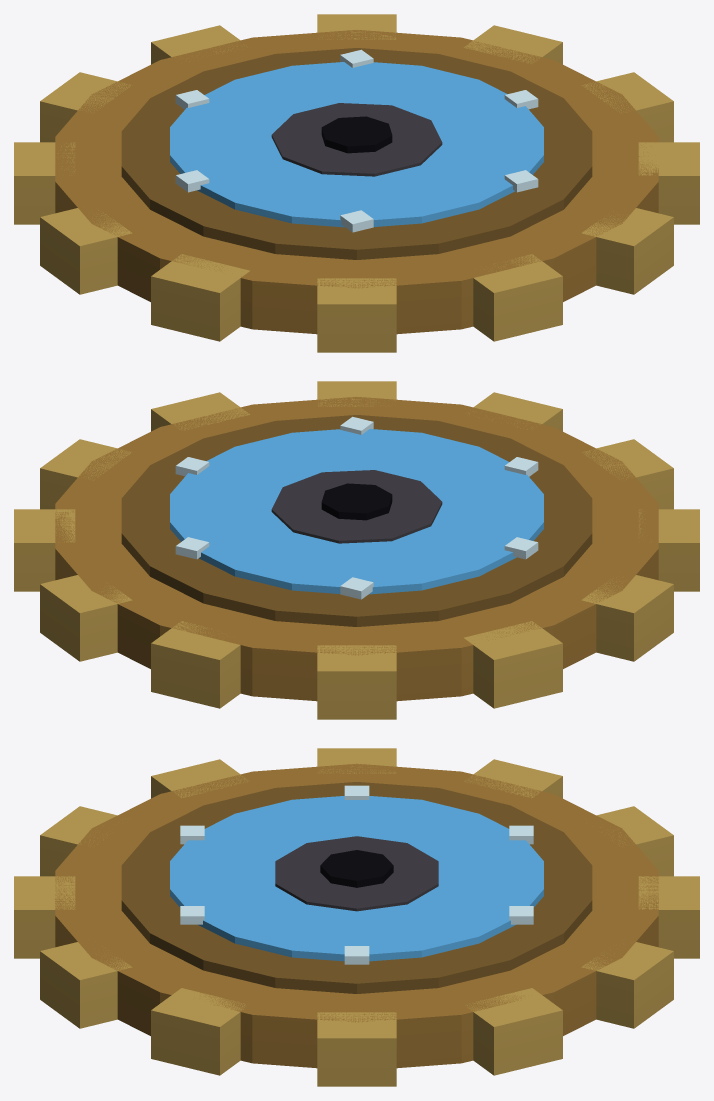
File: cog_medium.glb
3 renders of one model, top to bottom at view 1: azimuth 30°, elevation 25°; view 2: azimuth 150°, elevation 25°; view 3: azimuth 270°, elevation 25°, orthographic.
Parts seen in each view (by area): view 1: cog_medium; view 2: cog_medium; view 3: cog_medium.
Part boxes in pixels (x1,y1,x2,y2): cog_medium: (14, 14, 699, 352); cog_medium: (14, 381, 699, 719); cog_medium: (14, 748, 699, 1086).
Size of the model in its own units: 0.896 by 0.11 by 0.896.
